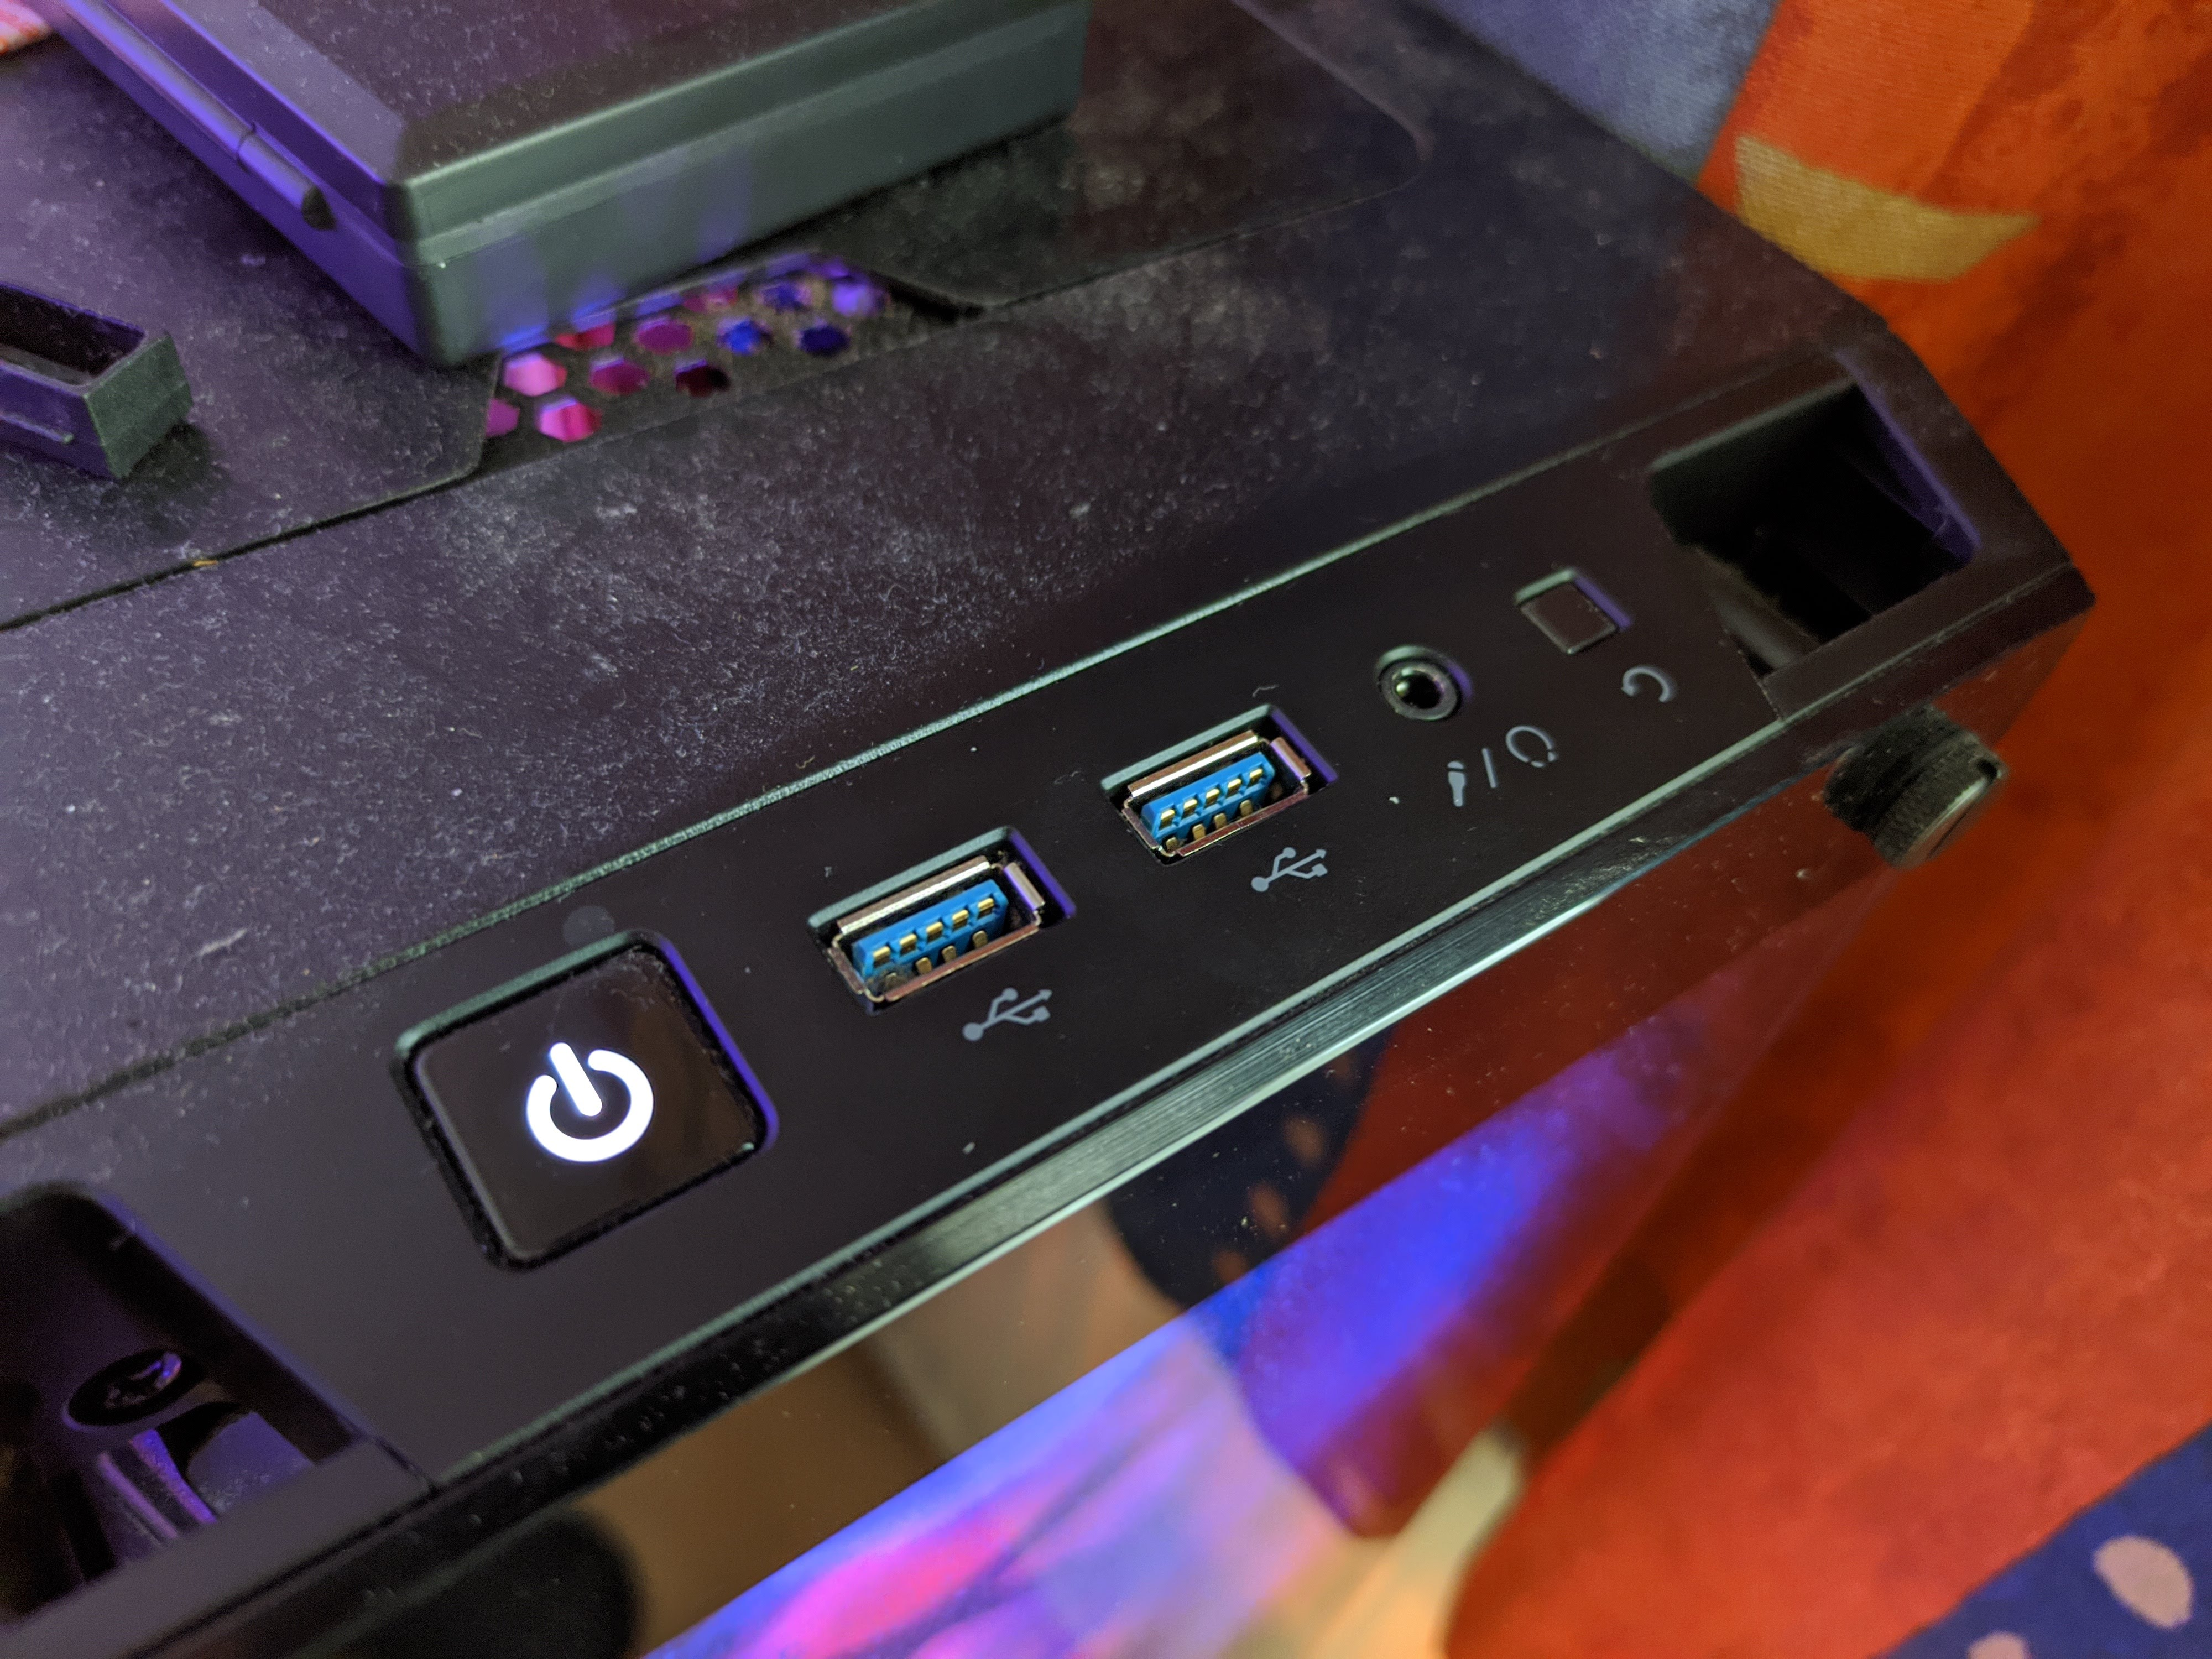usbport_in: (803, 828, 1071, 1032), (1097, 697, 1345, 884)
